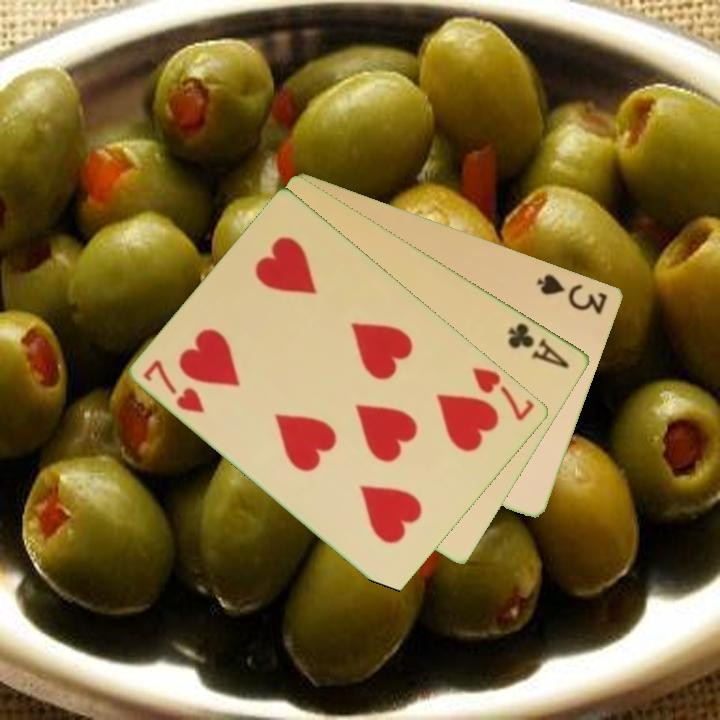3s: (533, 270, 611, 317)
7h: (469, 364, 538, 424), (140, 356, 208, 416)
Ac: (504, 319, 574, 372)
